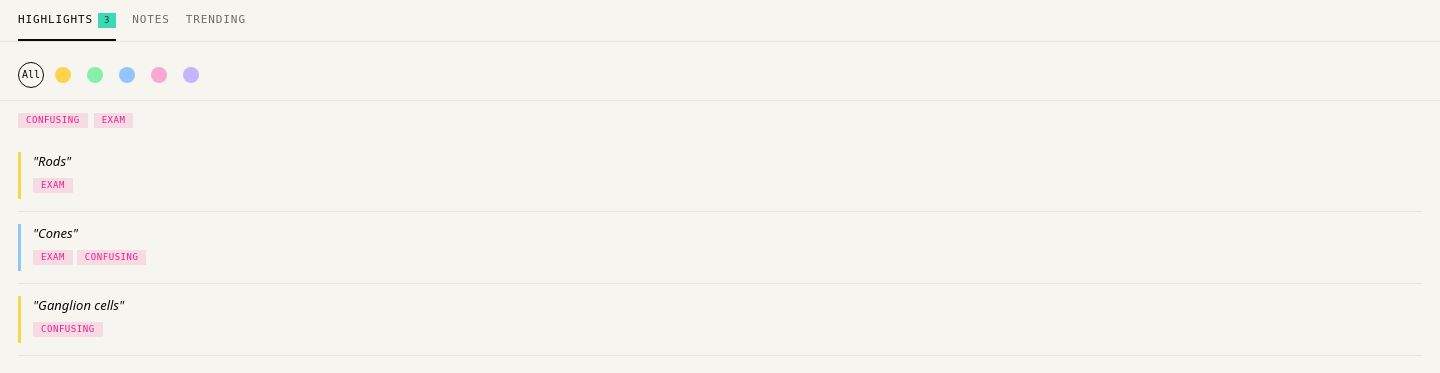
Test: Notebook: Stuart's standalone notes and tags › groups highlights by tags, combines a color filter, and can clear each
The image size is (1440, 373).
Click the 2nd button with class "tag-chip--filter" at (114, 120), box [94,112,133,128]
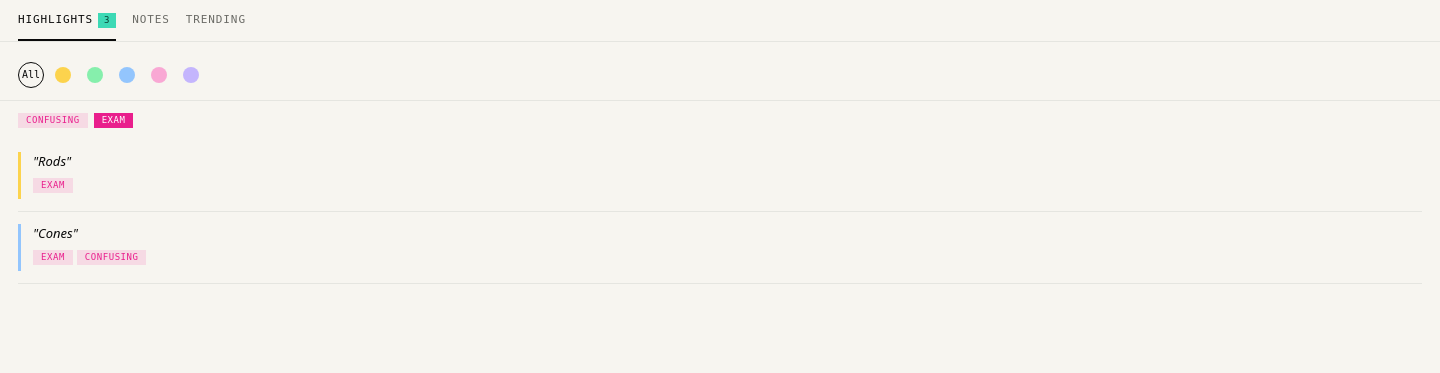
Now the number of elements with class "highlight-item" is 2, box [18,140,1422,212]; [18,212,1422,284]
Click the button titled "Blue" at (127, 74), box [114,62,140,88]
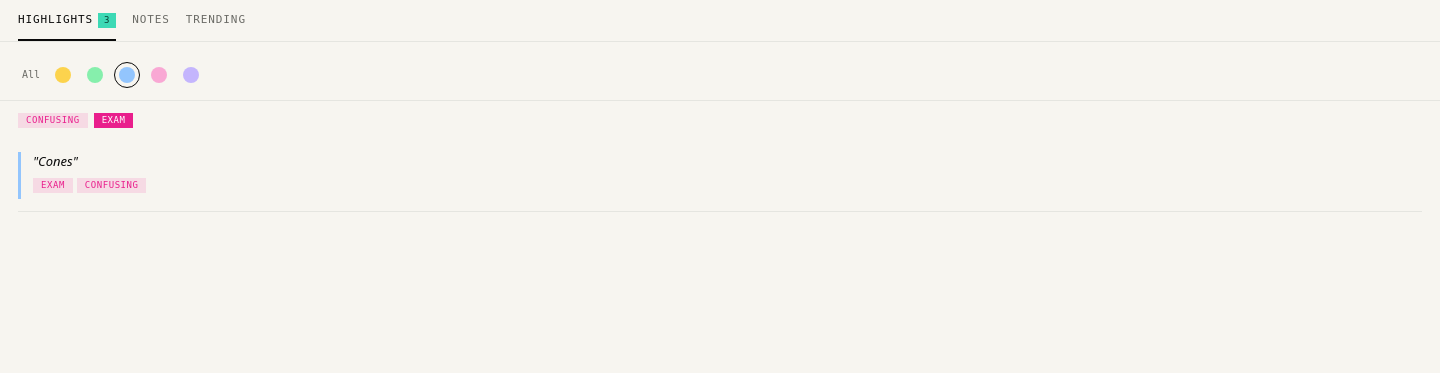
Expected: the text with class "item-text" shows "Cones", [33,152,78,170]
Now the number of elements with class "highlight-item" is 1, box [18,140,1422,212]
Click the button titled "All colors" at (31, 74), box [18,62,44,88]
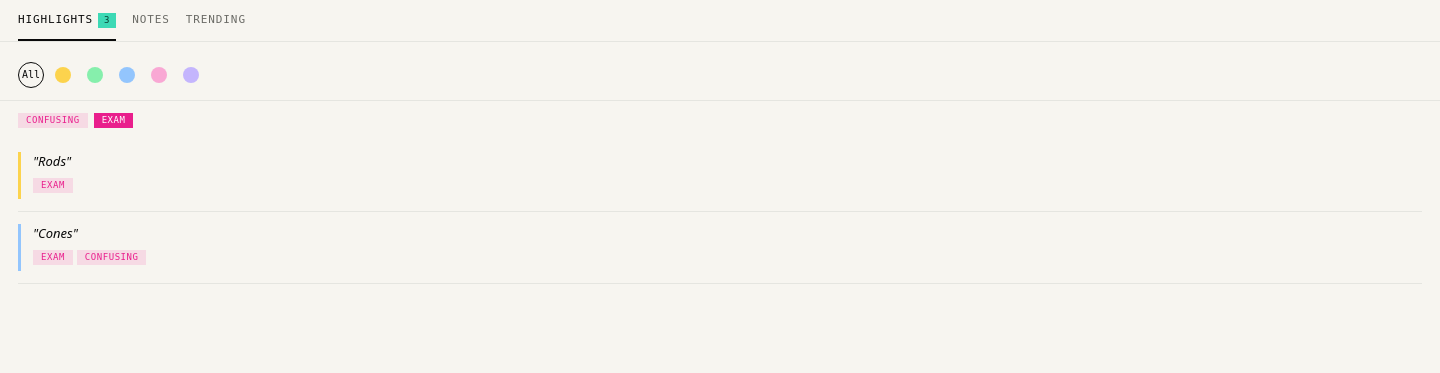
Click the 2nd button with class "tag-chip--filter" at (114, 120), box [94,112,133,128]
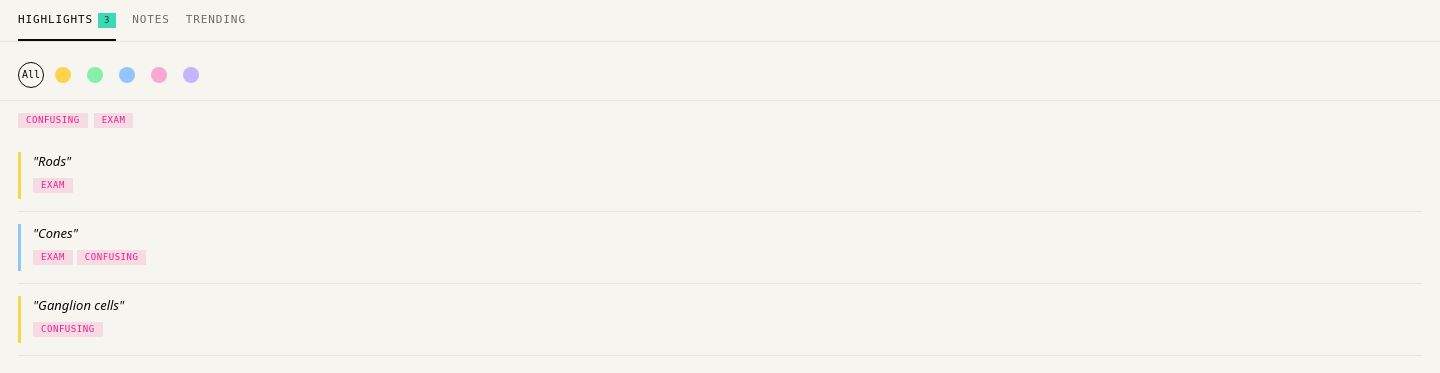
Now the number of elements with class "highlight-item" is 3, box [18,140,1422,212]; [18,212,1422,284]; [18,284,1422,356]
